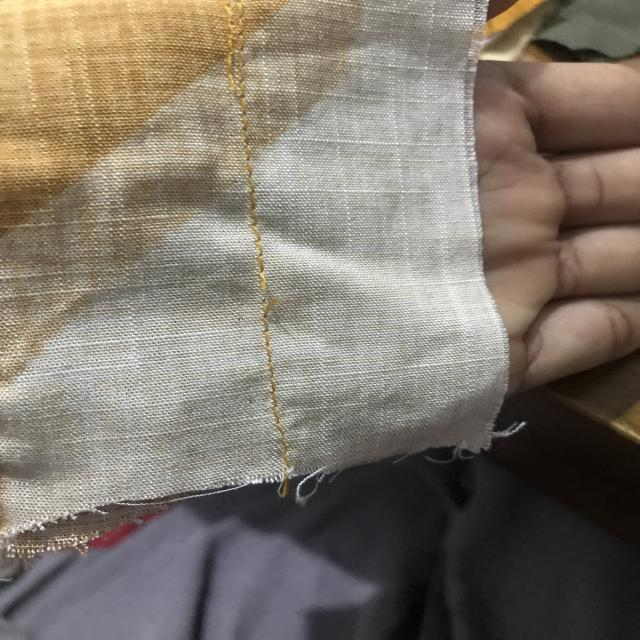broken: (248, 256, 297, 336)
good: (236, 133, 270, 236)
